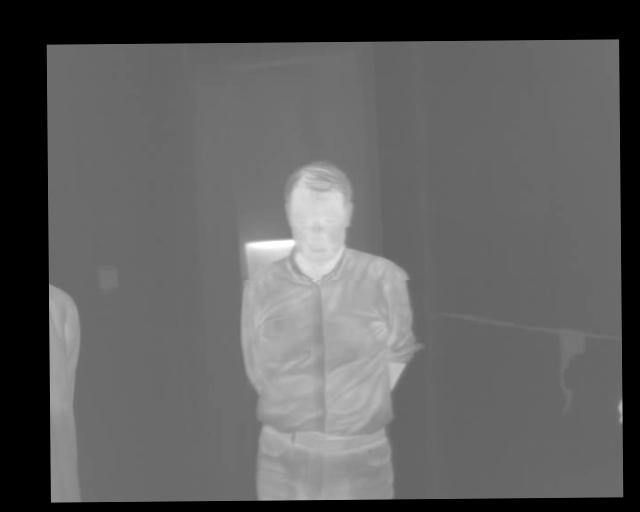face: (282, 159, 356, 262)
